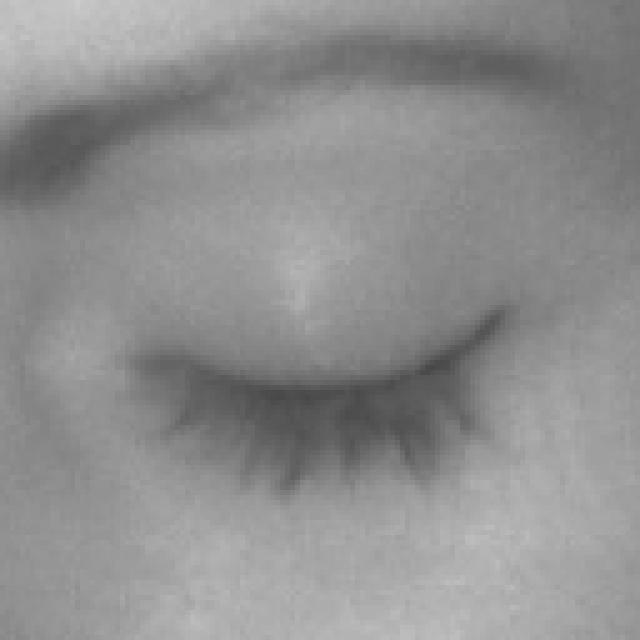Eyeclosed: (153, 195, 525, 566)
